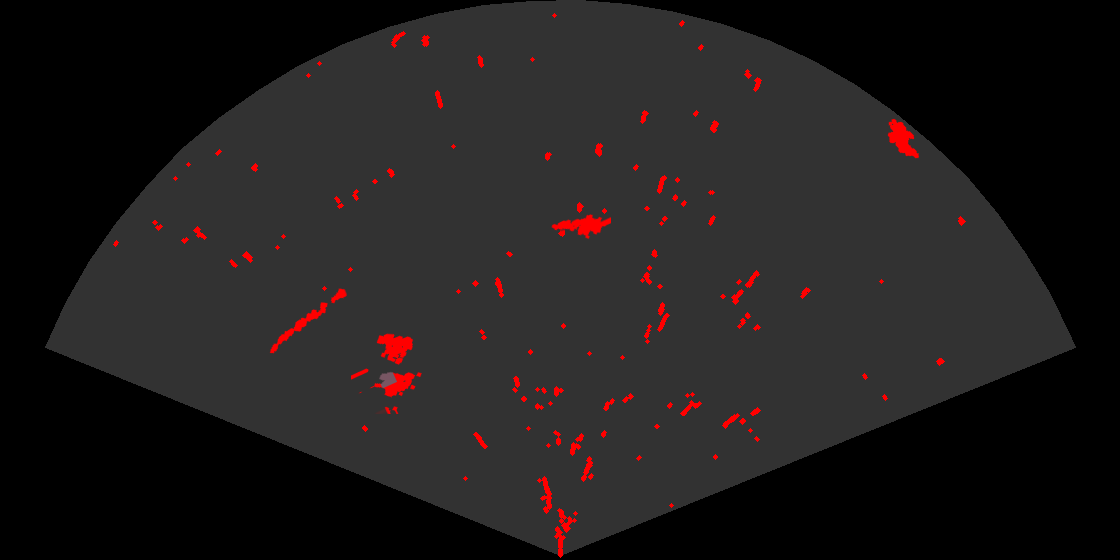AUV: (886, 117, 921, 160)
cage: (351, 332, 423, 414)
chain: (268, 287, 349, 355)
frogman: (550, 213, 611, 241)
